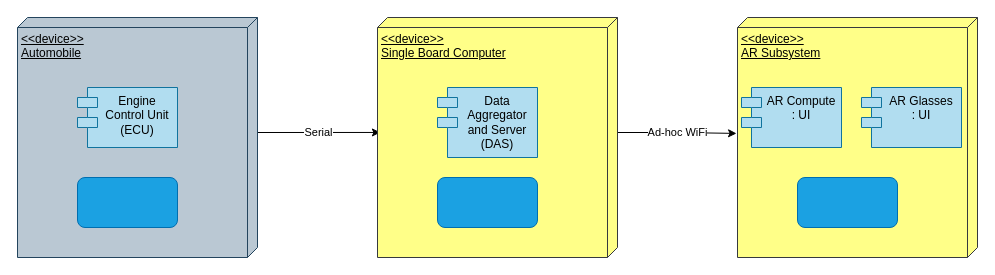
Image size: 995x275. Some labels were removed from this diagram. The centre of each missing label's shape, as x and y in pixels:
Aggregated Data: the point at 487,202
HUD Data: the point at 847,202
OBDII Data: the point at 127,202
